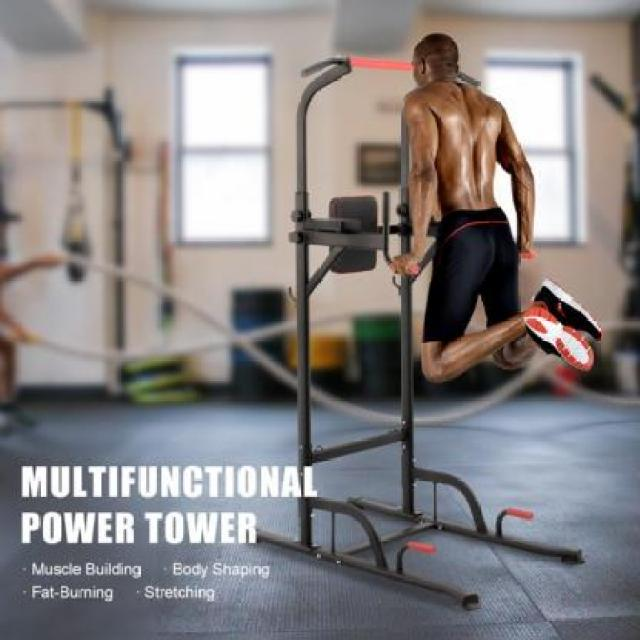chinning dipping: (292, 55, 585, 612)
